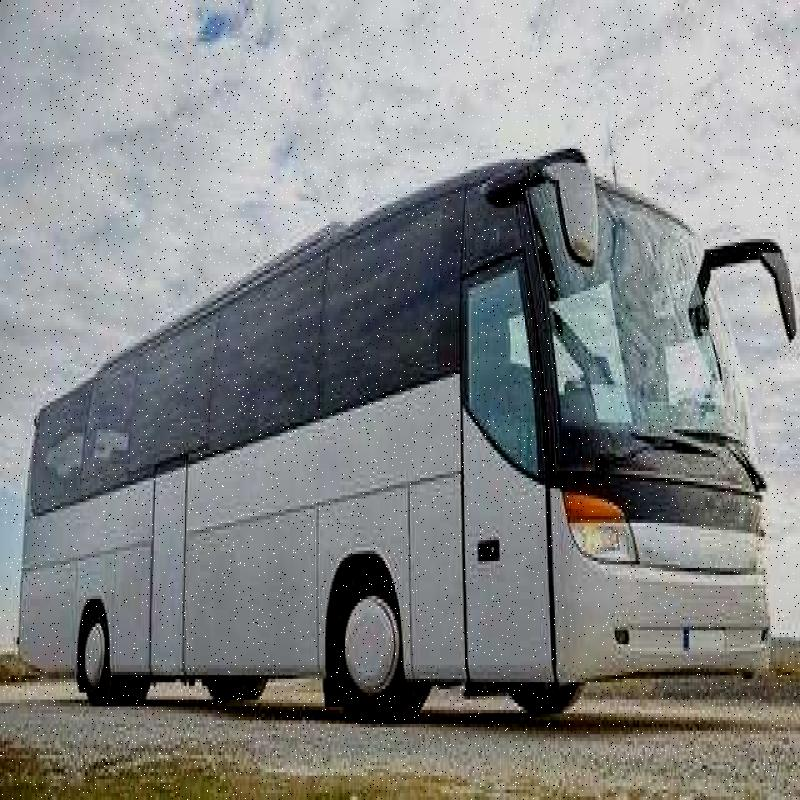bus: (17, 165, 783, 683)
